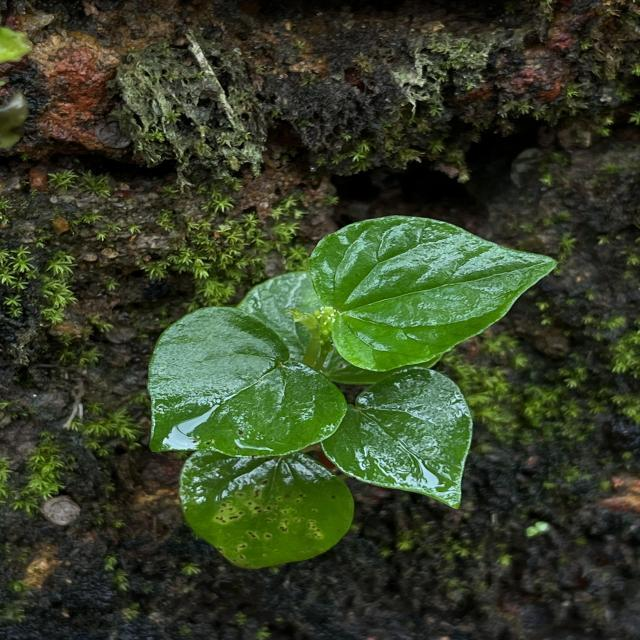Peperomia pellucida: (304, 212, 560, 374), (142, 304, 352, 462), (321, 364, 476, 512)
